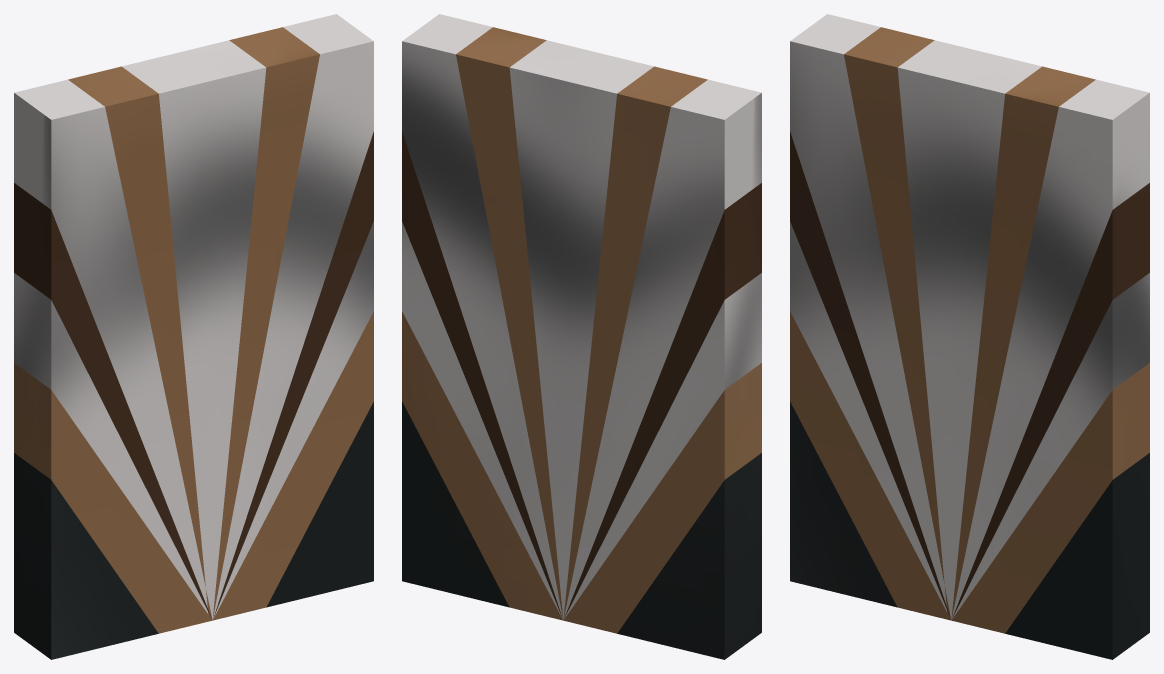
File: DecoWall1.fbx
3 views of the same model, side by side, from view 1: azimuth 30°, elevation 25°; view 2: azimuth 150°, elevation 25°; view 3: azimuth 330°, elevation 25° (orthographic).
Visible parts, largest first — view 1: Cube; view 2: Cube; view 3: Cube.
Part boxes in pixels (x1,y1,x2,y2): Cube: (14,14,373,659); Cube: (402,14,761,659); Cube: (790,14,1149,659).
Size of the model in its own units: 100 by 160 by 20.
